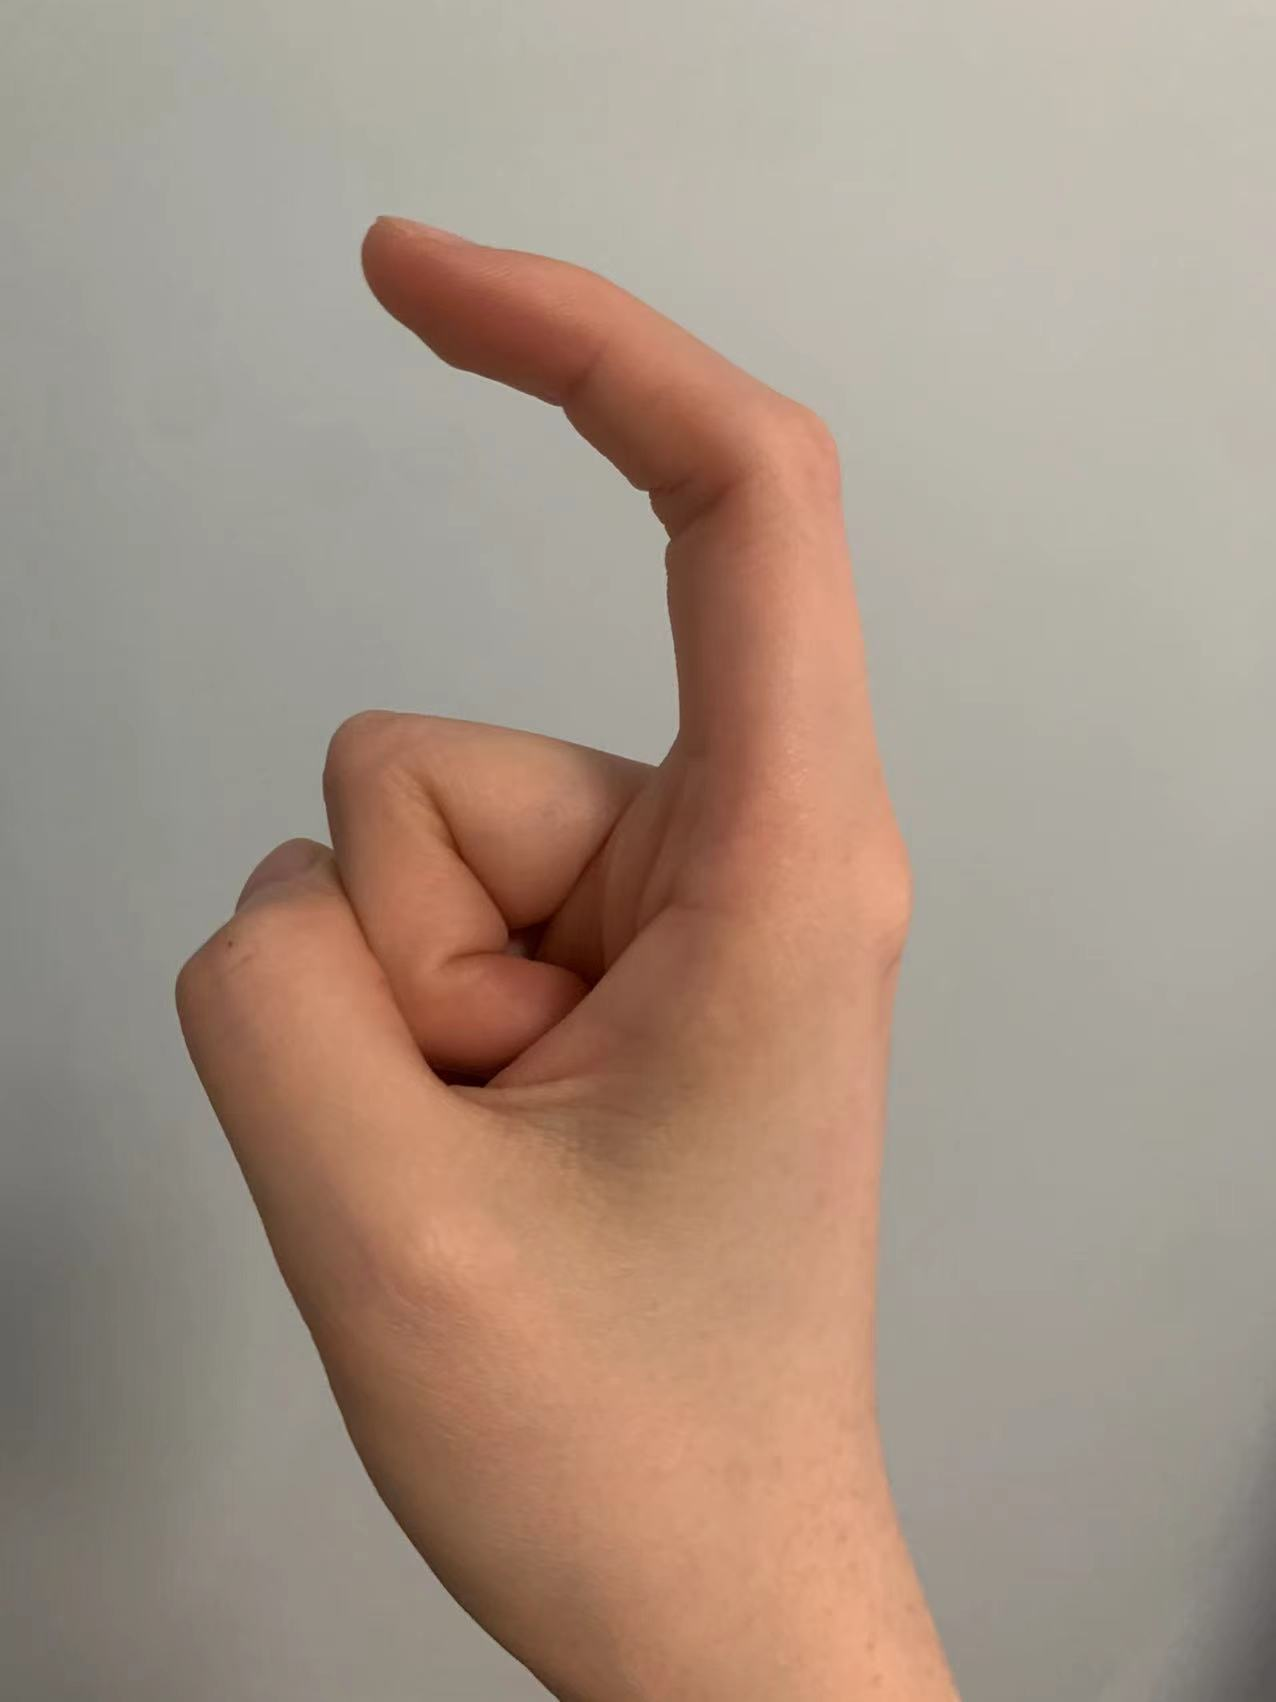anticlockwise: (168, 196, 929, 1664)
